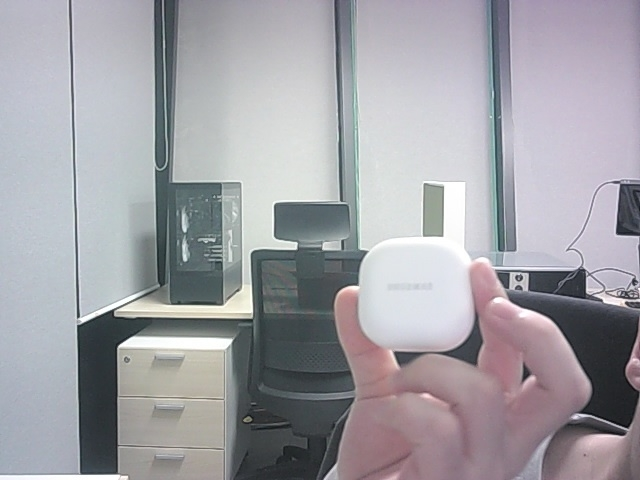case: (359, 237, 474, 351)
